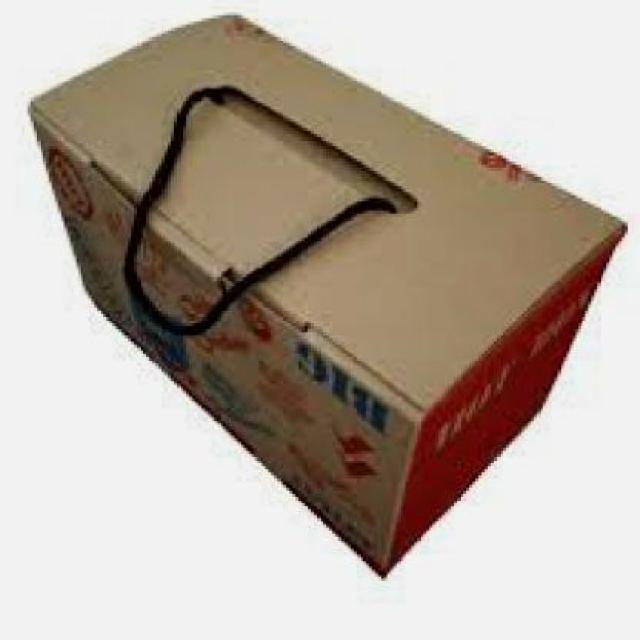-: (27, 13, 627, 584)
